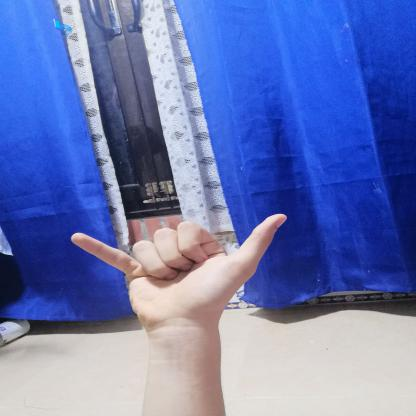YA: (54, 202, 307, 349)
